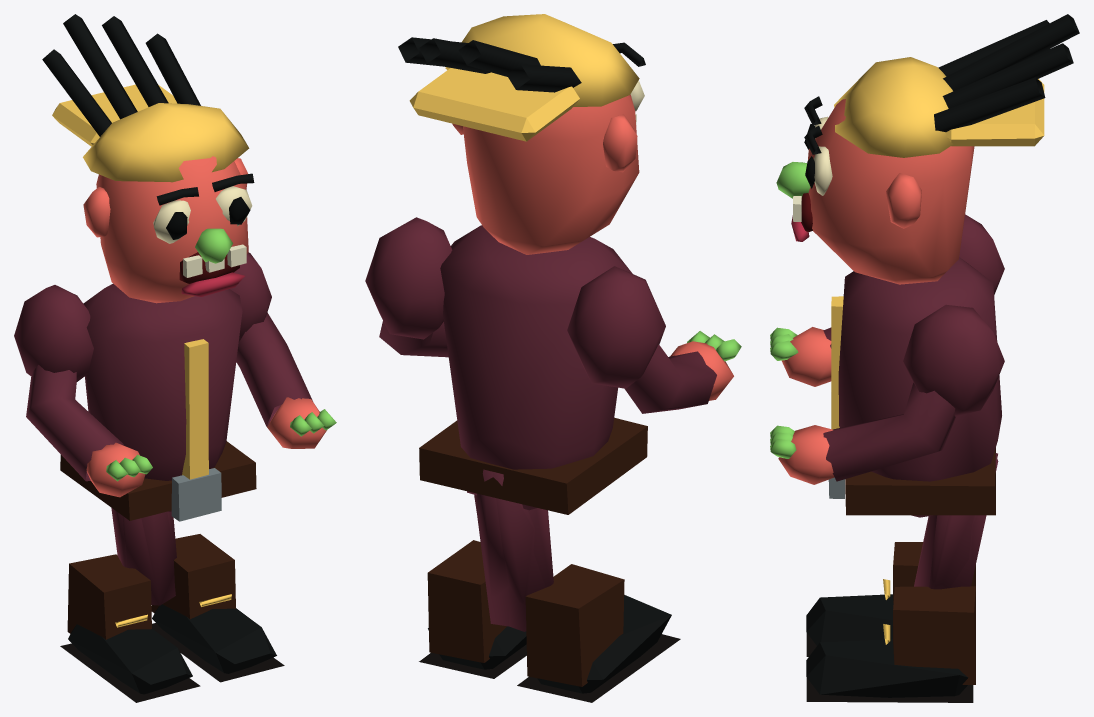
Rendered from fast-lod.glb.
The picture shows the model from 3 angles, left to right: view 1: azimuth 30°, elevation 25°; view 2: azimuth 150°, elevation 25°; view 3: azimuth 270°, elevation 25°; orthographic projection. The views are drawn at different scales.
Visible parts, largest first — view 1: Head, Body, Arms, LegR, LegL; view 2: Body, Head, Arms, LegL, LegR; view 3: Head, Body, Arms, LegR, LegL.
Part boxes in pixels (left/top/right/bottom): Head: left=42, top=14, right=254, bottom=303; Body: left=60, top=283, right=256, bottom=521; Arms: left=14, top=252, right=336, bottom=497; LegR: left=111, top=510, right=284, bottom=682; LegL: left=60, top=508, right=200, bottom=702; Body: left=419, top=225, right=647, bottom=514; Head: left=398, top=14, right=645, bottom=254; Arms: left=365, top=217, right=741, bottom=413; LegL: left=477, top=470, right=680, bottom=702; LegR: left=419, top=469, right=553, bottom=678; Head: left=776, top=14, right=1079, bottom=284; Body: left=828, top=257, right=1001, bottom=517; Arms: left=770, top=214, right=1004, bottom=484; LegR: left=806, top=455, right=998, bottom=702; LegL: left=806, top=453, right=997, bottom=656.
Size of the model in its own units: 0.5769 by 1.28 by 0.5555.
Materials: 1 (1 with a texture image).
